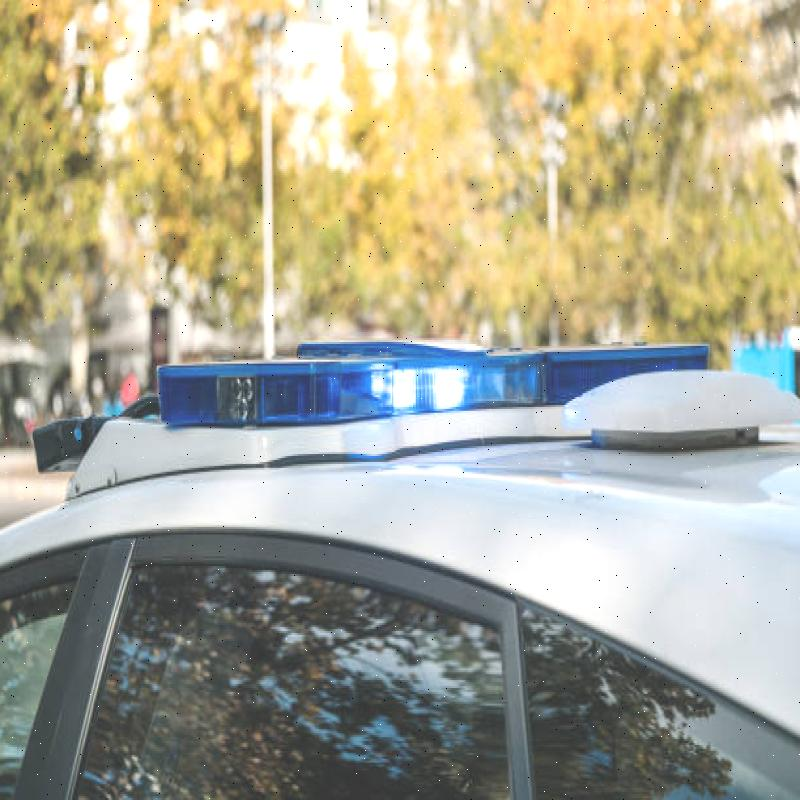AmbulanceSiren: (144, 281, 730, 462)
